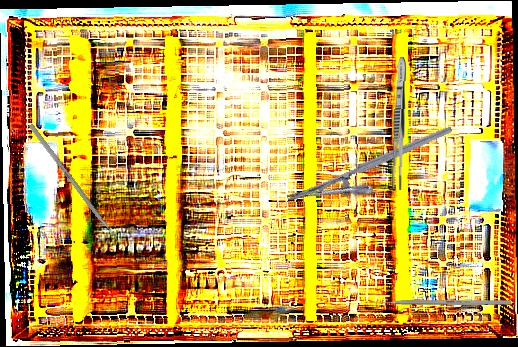Dressing Forceps: (390, 56, 409, 191)
Needle Holder: (285, 124, 463, 225)
Pusher: (28, 123, 127, 252), (361, 300, 511, 305)
